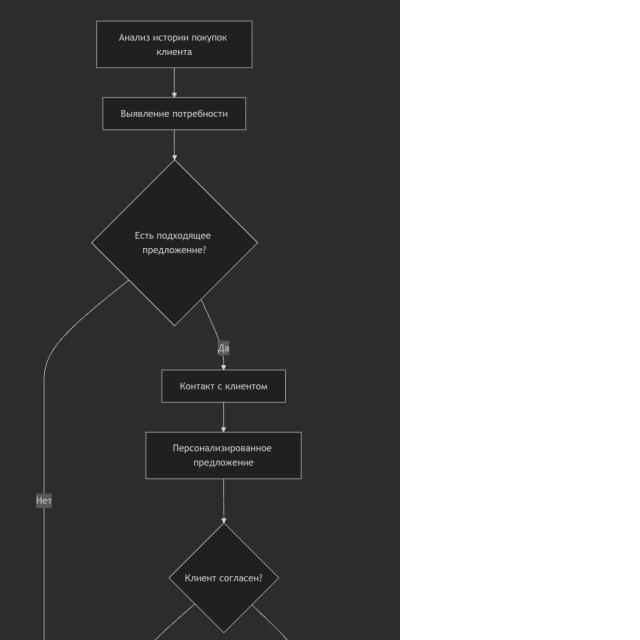arrow: (201, 300, 227, 370), (220, 479, 228, 524), (170, 68, 178, 98), (171, 130, 178, 161), (220, 402, 227, 432)
diamond: (92, 160, 258, 327), (169, 522, 280, 634)
rectangle: (96, 20, 252, 68), (146, 432, 302, 479), (102, 97, 247, 131), (162, 369, 286, 403)
text_region: (36, 496, 52, 505), (218, 344, 229, 354)
